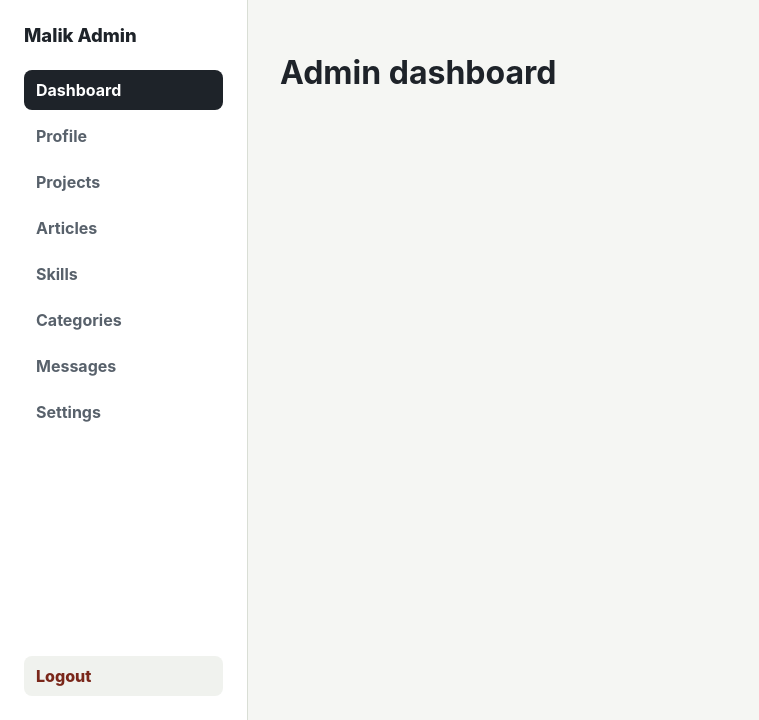
Test: admin authentication and route protection › signs out from the admin layout and returns to login
Click the button "Logout". click: click(124, 676)
box: [24,656,223,696]
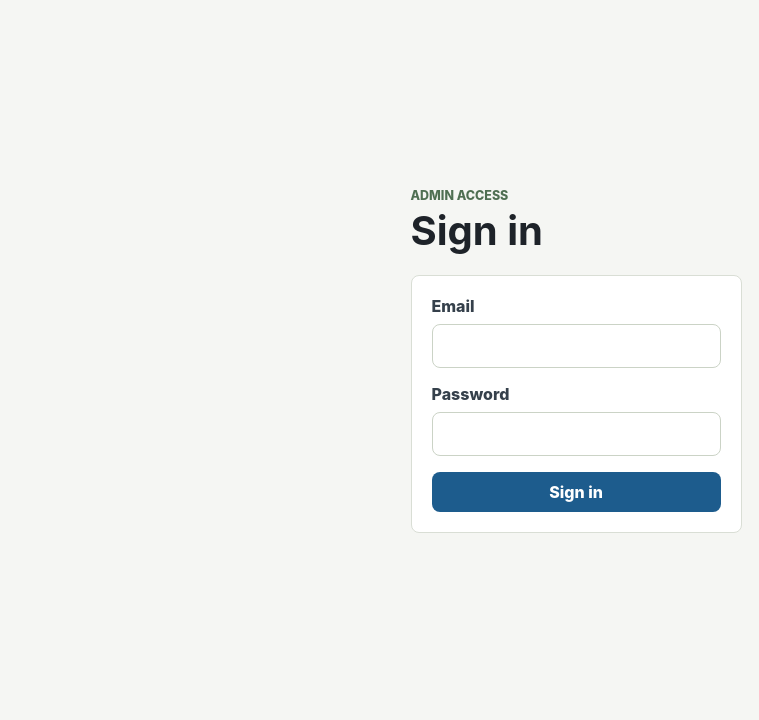
Expected: the heading "Sign in" is shown, [410,206,543,254]
